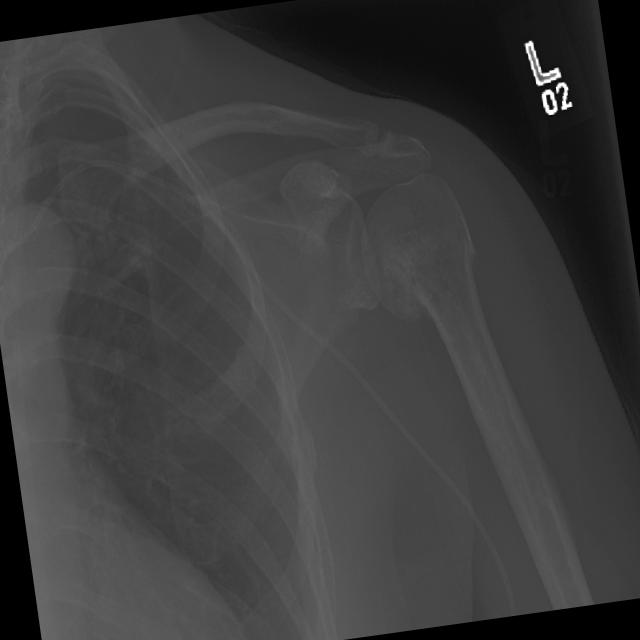shoulder fracture: (445, 229, 501, 296)
